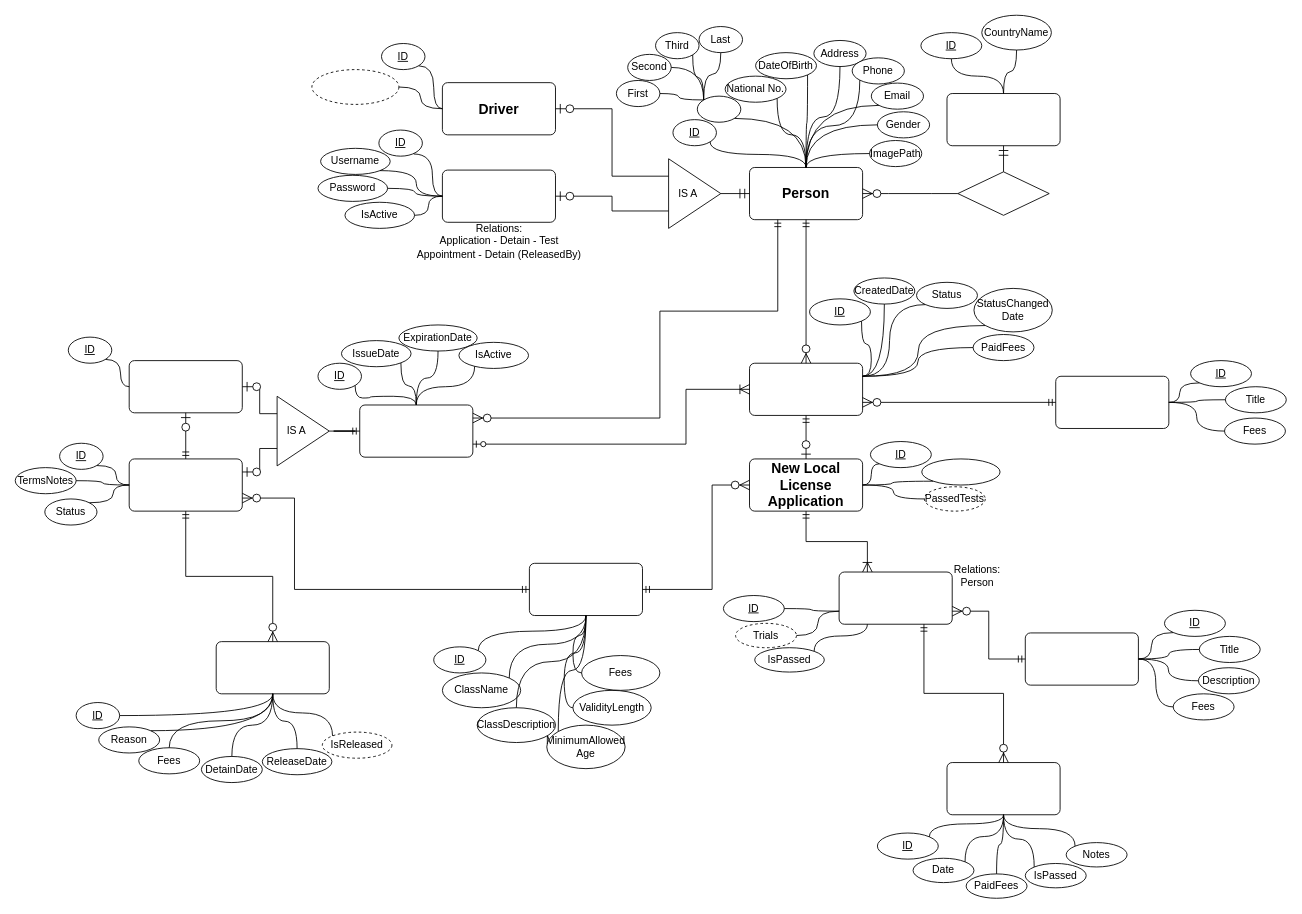
Some shapes in this 1302 by 914 pixel diagram are drawn without their labels. Each missing label, with the centre of its shape:
"Active Licences" goes at [355,86].
"Application" goes at [806,388].
"Application Type" goes at [1112,401].
"Country (Lookup)" goes at [1003,119].
"Detain" goes at [272,667].
"International License" goes at [185,386].
"Is From" goes at [1003,193].
"IssuePaidFees" goes at [960,471].
"License" goes at [416,430].
"License Class" goes at [585,589].
"Local License" goes at [185,484].
"Name" goes at [718,108].
"Test" goes at [895,597].
"Test Appointment" goes at [1003,788].
"Test Type" goes at [1081,658].
"User" goes at [498,195].
